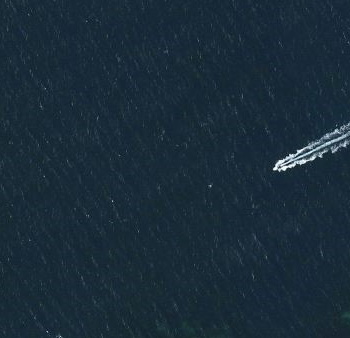ship: (269, 162, 288, 173)
